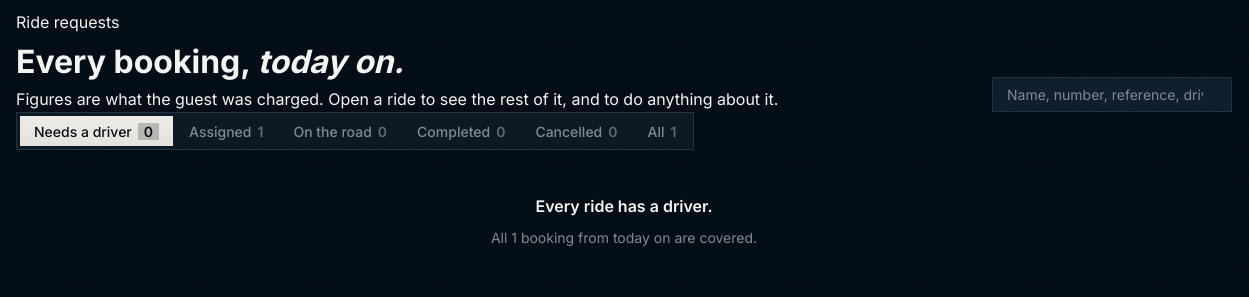
Test: Ride requests › says when an assigned ride shows the guest no car
Click the button "Assigned1" at [226, 131], box [175,116,277,146]
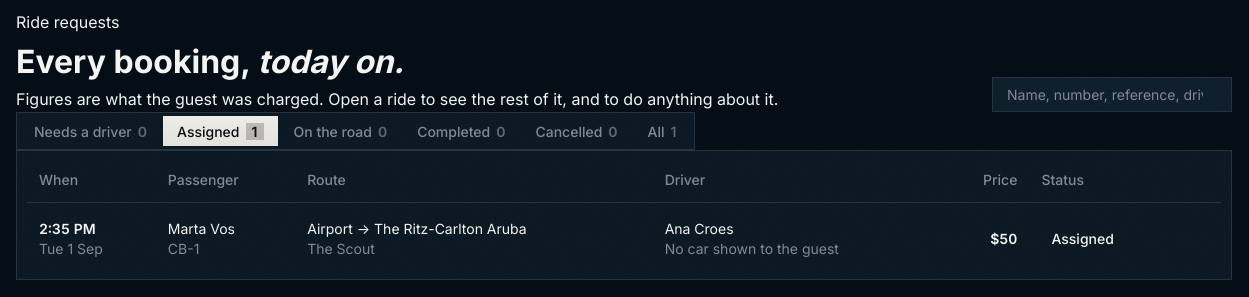
Result: the text "No car shown to the guest" is shown at [665,240,839,257]
